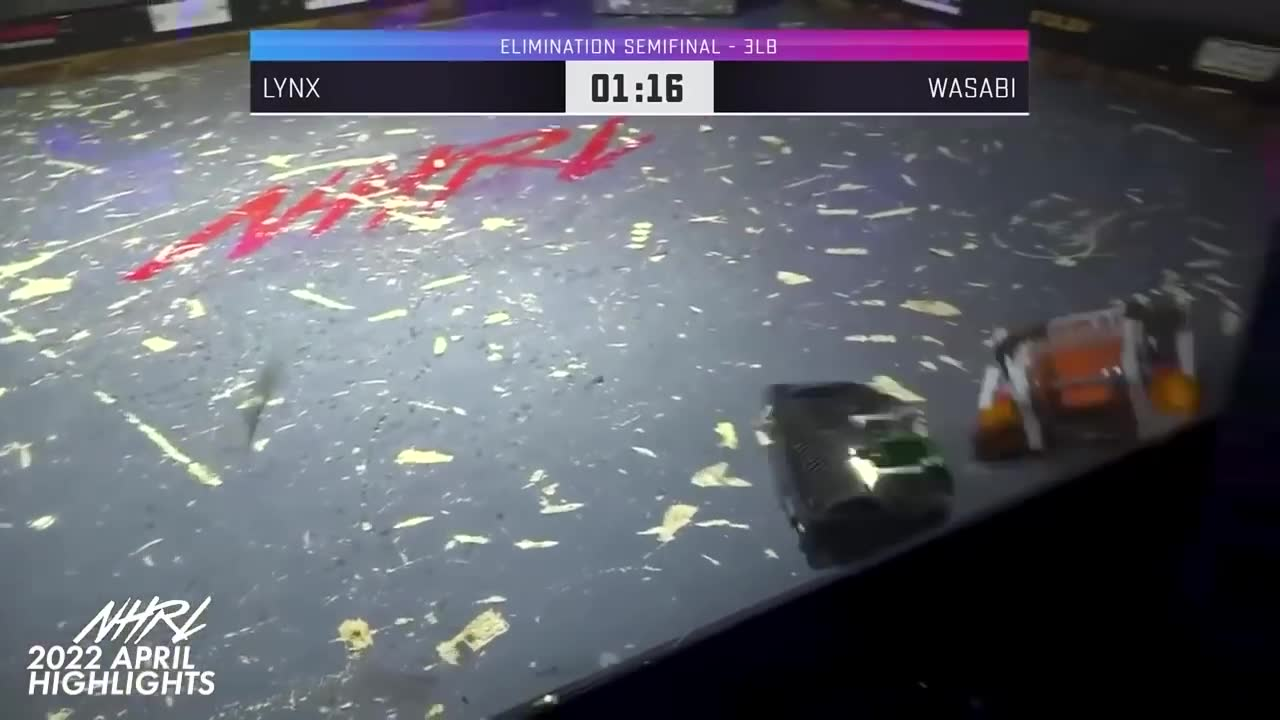combatbot: (971, 299, 1218, 461), (767, 377, 959, 554)
